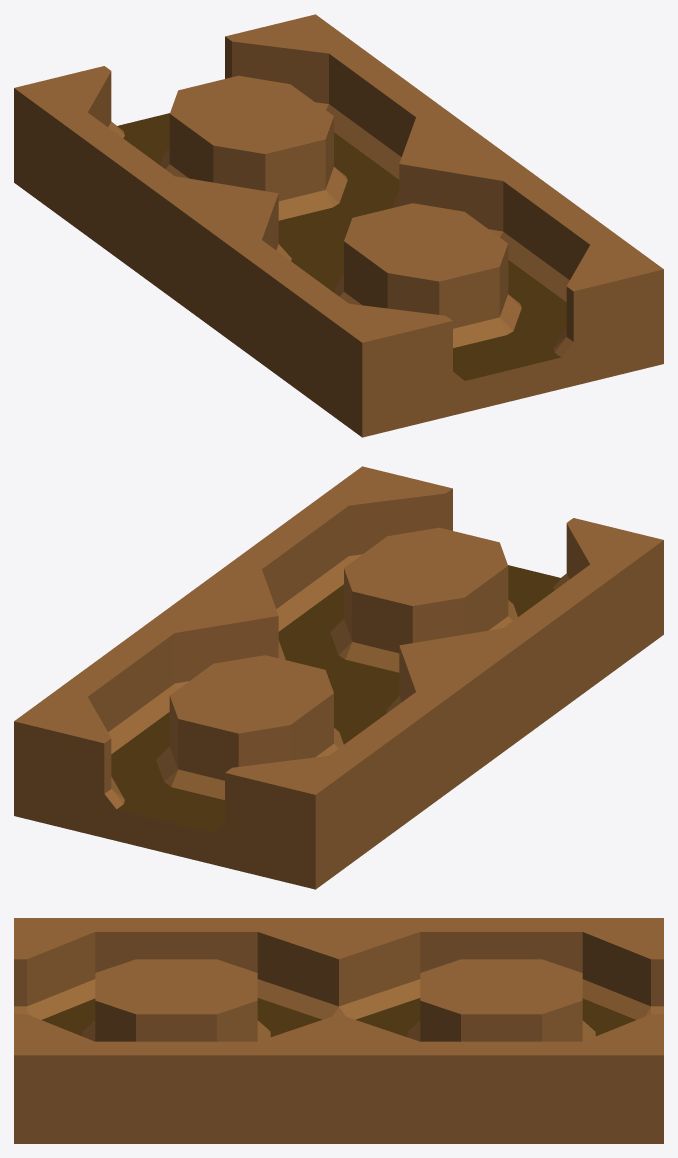
Rendered from Arena Test.fbx.
3 views of the same model, one above another, from view 1: azimuth 30°, elevation 25°; view 2: azimuth 150°, elevation 25°; view 3: azimuth 270°, elevation 25° (orthographic). The views are drawn at different scales.
Visible parts, largest first — view 1: Model; view 2: Model; view 3: Model.
Boxes of the visible parts, left/top/right/bottom form: Model: left=14, top=14, right=663, bottom=437; Model: left=14, top=466, right=663, bottom=889; Model: left=14, top=918, right=663, bottom=1143.
Bounding box in the file's own units: 50 × 15 × 100.
